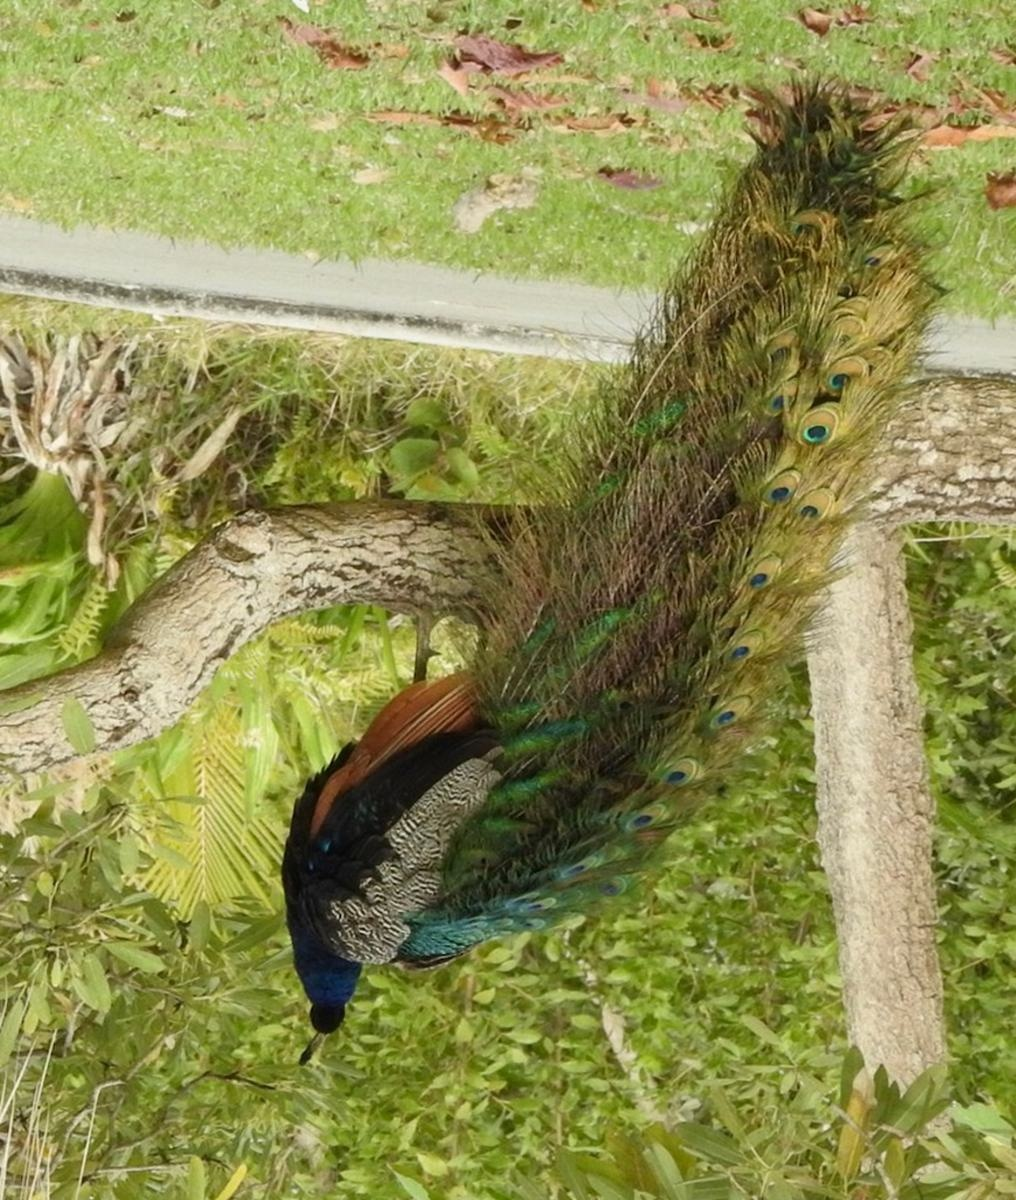peacock: (243, 130, 954, 1072)
